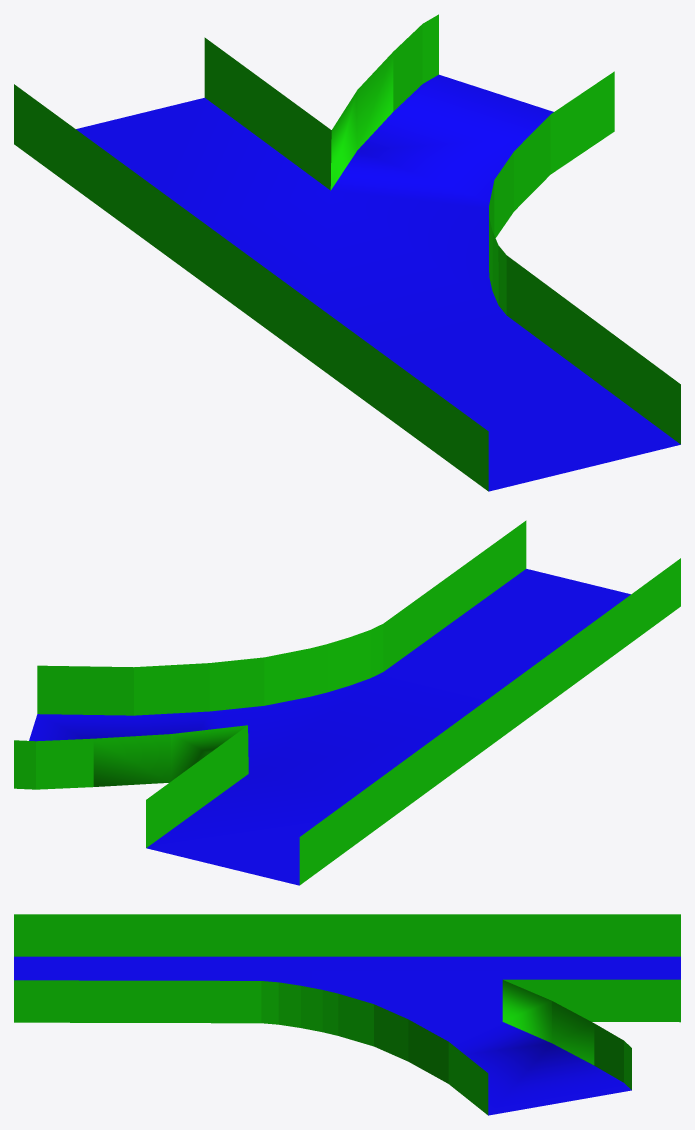
Rendered from inter2Reparer4.fbx.
3 renders of one model, top to bottom at view 1: azimuth 30°, elevation 25°; view 2: azimuth 150°, elevation 25°; view 3: azimuth 270°, elevation 25°, orthographic. The views are drawn at different scales.
Parts seen in each view (by area): view 1: svgMesh1.002; view 2: svgMesh1.002; view 3: svgMesh1.002.
Part boxes in pixels (<box>): svgMesh1.002: <box>14,14,680,491</box>; svgMesh1.002: <box>14,520,680,885</box>; svgMesh1.002: <box>14,914,680,1115</box>.
Bounding box in the file's own units: 362 × 45.39 × 643.
